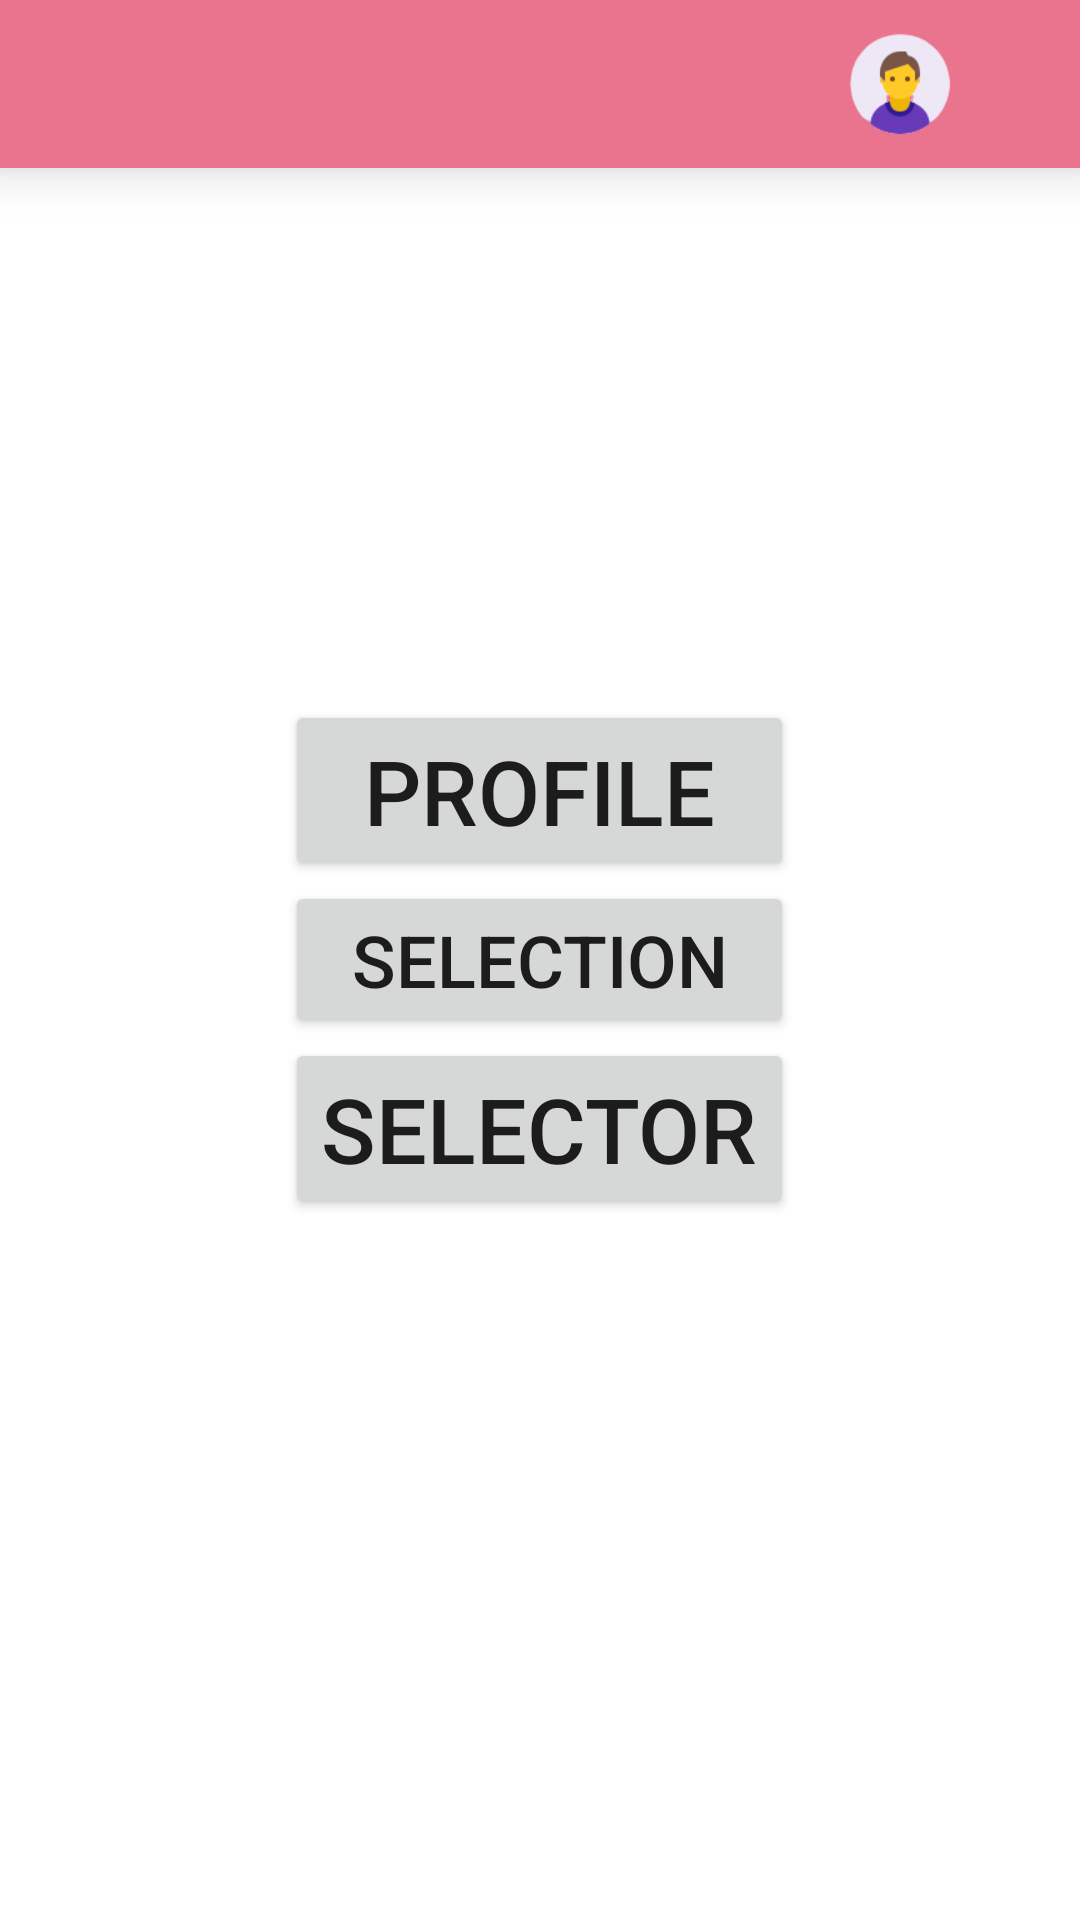

Icon click points for this 1080×1920 phone screenshot, format (x=x, y=y):
male child profile: (x=900, y=84)
